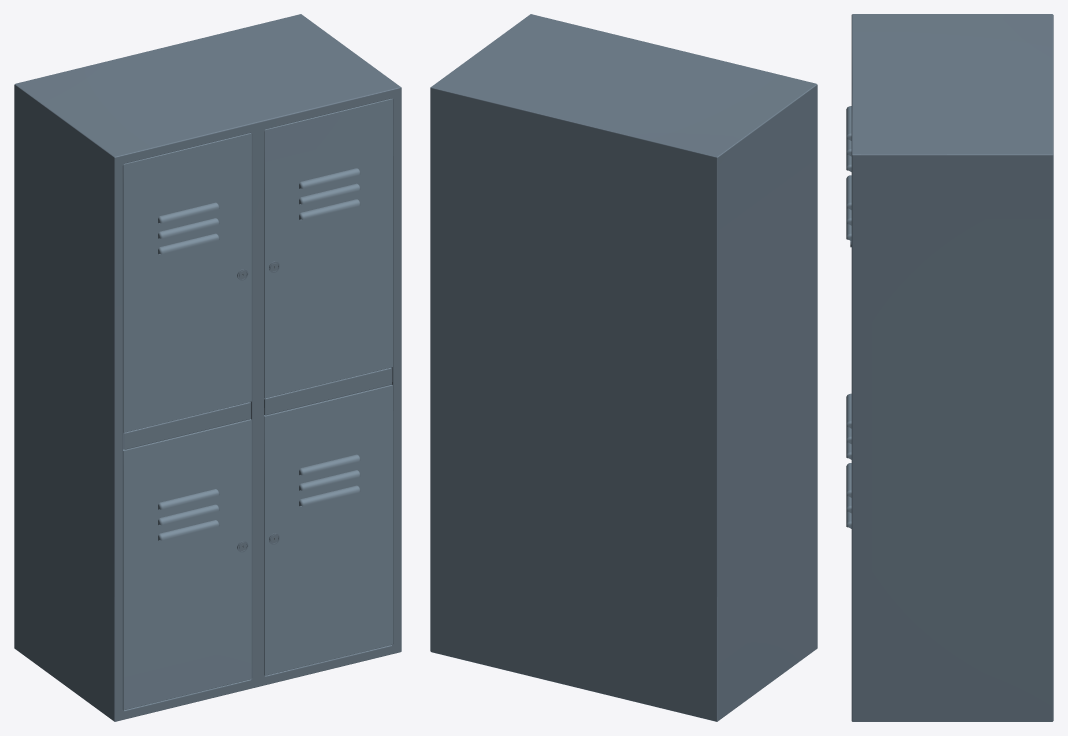
The model's file is SM_Locker_Doors_4Up_Closed.fbx.
3 views of the same model, side by side, from view 1: azimuth 30°, elevation 25°; view 2: azimuth 150°, elevation 25°; view 3: azimuth 270°, elevation 25° (orthographic).
Parts seen in each view (by area): view 1: SM_Locker_Doors_4Up_Closed; view 2: SM_Locker_Doors_4Up_Closed; view 3: SM_Locker_Doors_4Up_Closed.
Boxes of the visible parts, left/top/right/bottom form: SM_Locker_Doors_4Up_Closed: left=14, top=14, right=401, bottom=721; SM_Locker_Doors_4Up_Closed: left=430, top=14, right=817, bottom=721; SM_Locker_Doors_4Up_Closed: left=846, top=14, right=1053, bottom=721.
Bounding box in the file's own units: 115 × 215 × 71.27.
